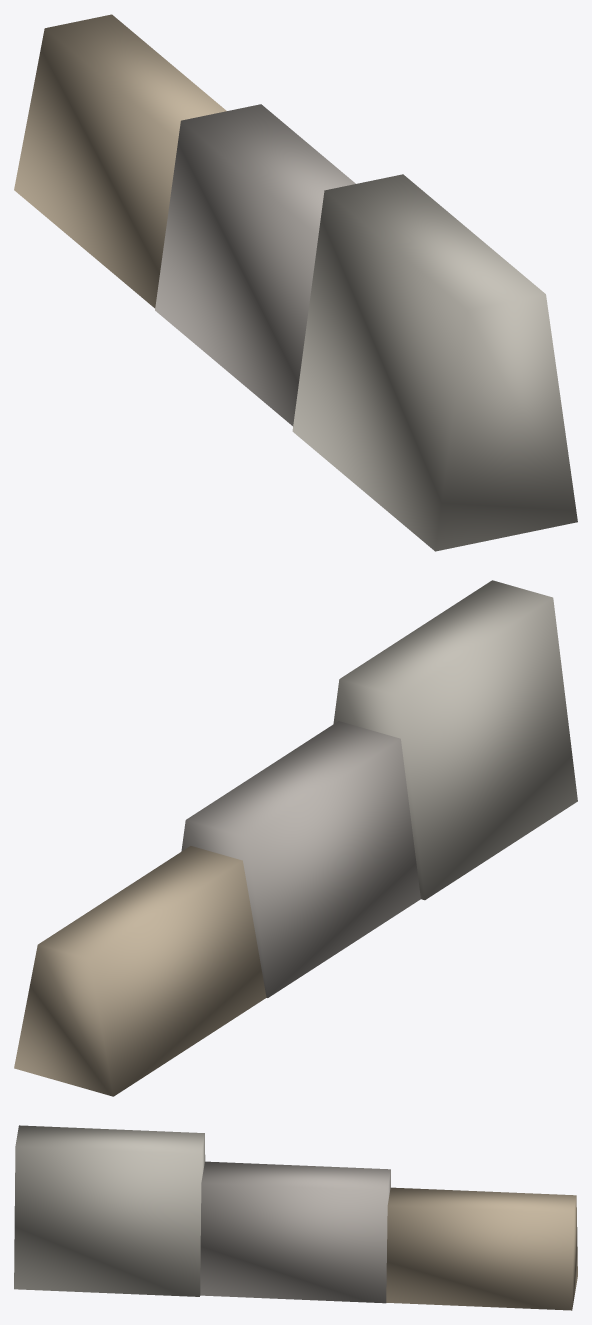
File: farm_-12_-4_collision.glb
The picture shows the model from 3 angles, top to bottom: view 1: azimuth 30°, elevation 25°; view 2: azimuth 150°, elevation 25°; view 3: azimuth 270°, elevation 25°; orthographic projection. The views are drawn at different scales.
Parts seen in each view (by area): view 1: geometry_0; view 2: geometry_0; view 3: geometry_0.
Boxes of the visible parts, box(x1,y1,x2,y2) form: geometry_0: box(14, 14, 577, 551); geometry_0: box(14, 580, 577, 1096); geometry_0: box(14, 1125, 577, 1310).
Bounding box in the file's own units: 1.01 × 1.25 × 4.56.
